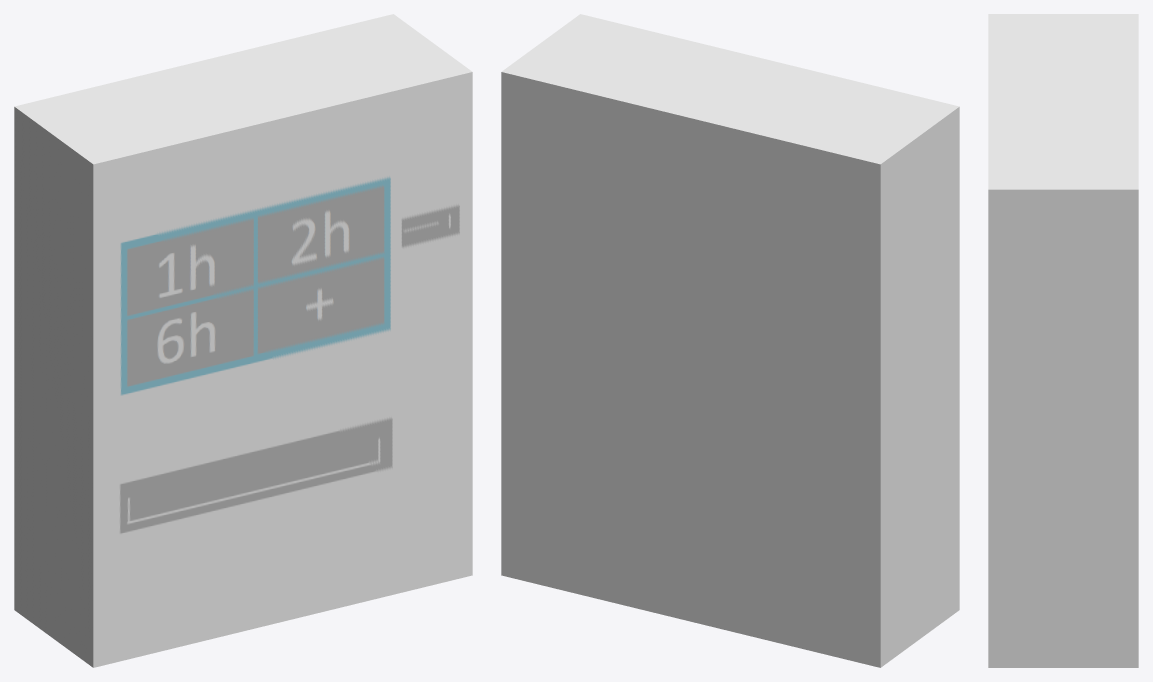
File: automat.glb
The picture shows the model from 3 angles, left to right: view 1: azimuth 30°, elevation 25°; view 2: azimuth 150°, elevation 25°; view 3: azimuth 270°, elevation 25°; orthographic projection. The views are drawn at different scales.
Parts seen in each view (by area): view 1: mesh_id27; view 2: mesh_id27; view 3: mesh_id27.
Boxes of the visible parts, x1=… form: mesh_id27: x1=14, y1=14, x2=472, y2=667; mesh_id27: x1=501, y1=14, x2=959, y2=667; mesh_id27: x1=988, y1=14, x2=1138, y2=667.
Bounding box in the file's own units: 0.4172 × 0.5292 × 0.1507.
Materials: 1 (1 with a texture image).
